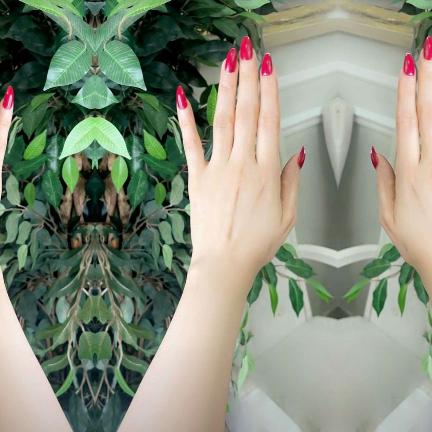Nail: (239, 36, 252, 60), (224, 48, 236, 73), (175, 86, 186, 110), (260, 53, 271, 77), (2, 86, 13, 110), (403, 53, 414, 77), (423, 36, 432, 60), (297, 147, 304, 168), (371, 147, 378, 168)
